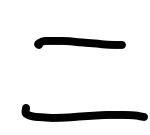eqv: (23, 37, 148, 121)
